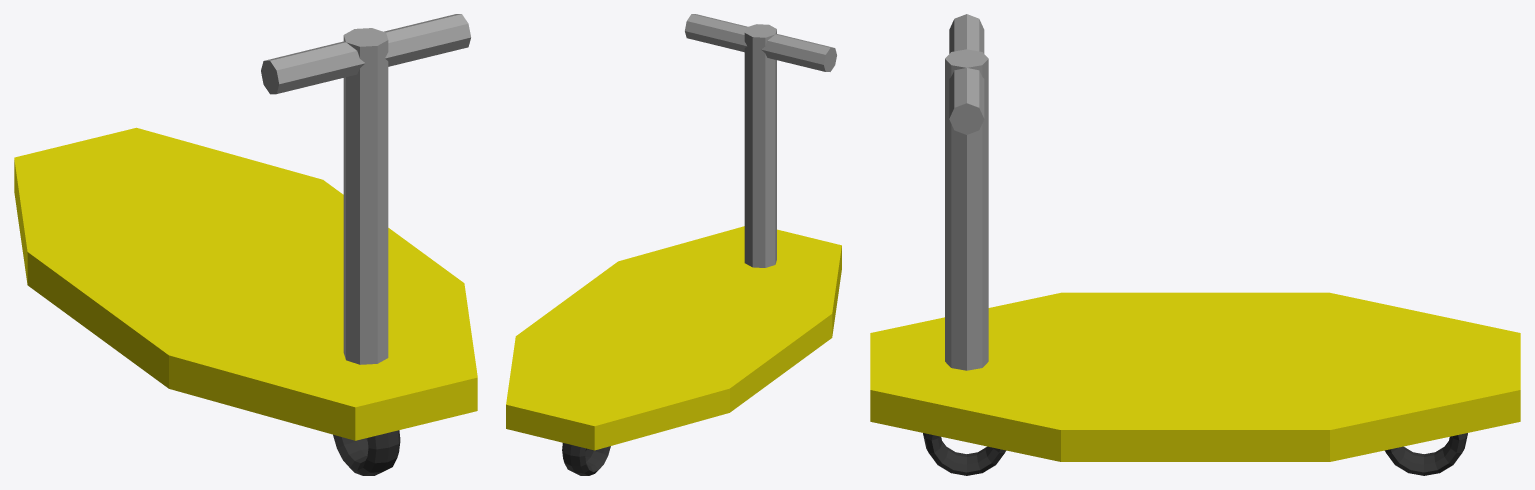
The model's file is ScooterKAR.glb.
3 renders of one model, left to right at view 1: azimuth 30°, elevation 25°; view 2: azimuth 150°, elevation 25°; view 3: azimuth 270°, elevation 25°, orthographic. The views are drawn at different scales.
Visible parts, largest first — view 1: 01_Board, 04_Handle, 02_WheelFront; view 2: 01_Board, 04_Handle, 02_WheelBack; view 3: 01_Board, 04_Handle, 02_WheelFront, 02_WheelBack.
Boxes of the visible parts, <box> form: 01_Board: <box>14,127,477,440</box>; 04_Handle: <box>261,14,471,364</box>; 02_WheelFront: <box>333,430,400,475</box>; 01_Board: <box>506,226,841,450</box>; 04_Handle: <box>685,14,836,267</box>; 02_WheelBack: <box>562,443,610,475</box>; 01_Board: <box>870,292,1520,461</box>; 04_Handle: <box>945,14,988,370</box>; 02_WheelFront: <box>923,433,1006,475</box>; 02_WheelBack: <box>1384,433,1467,475</box>.
Size of the model in its own units: 0.1848 by 0.26 by 0.3696.
